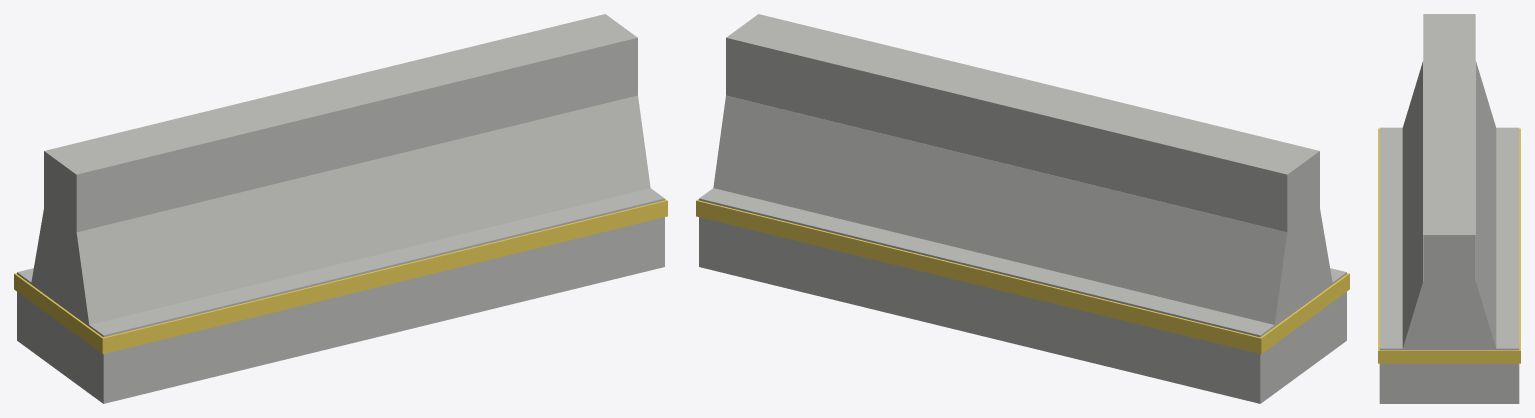
Rendered from Barrier.fbx.
3 renders of one model, left to right at view 1: azimuth 30°, elevation 25°; view 2: azimuth 150°, elevation 25°; view 3: azimuth 270°, elevation 25°, orthographic. The views are drawn at different scales.
Parts seen in each view (by area): view 1: Barrier_Mesh; view 2: Barrier_Mesh; view 3: Barrier_Mesh.
Boxes of the visible parts, left/top/right/bottom form: Barrier_Mesh: left=14, top=14, right=667, bottom=403; Barrier_Mesh: left=696, top=14, right=1349, bottom=403; Barrier_Mesh: left=1378, top=14, right=1520, bottom=403.
Size of the model in its own units: 3.02 by 0.82 by 1.07.
